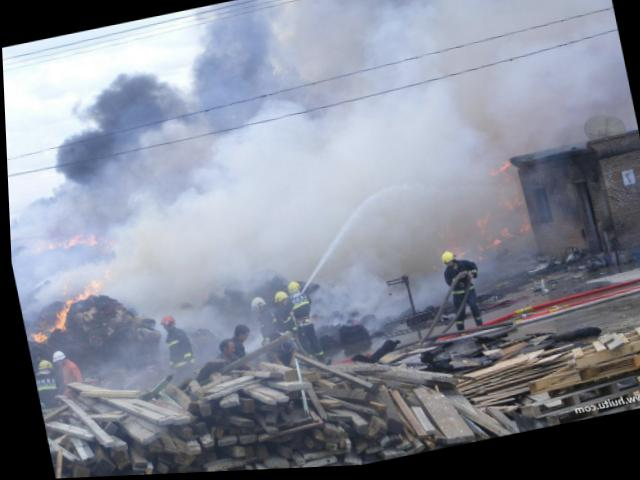fire: (79, 276, 103, 298), (51, 305, 67, 331), (495, 229, 516, 247), (473, 242, 498, 257), (509, 186, 523, 210), (62, 232, 83, 247), (26, 329, 45, 345), (474, 218, 490, 237), (517, 217, 530, 236), (452, 246, 466, 263), (62, 292, 81, 304), (84, 231, 98, 247), (500, 162, 513, 175), (487, 169, 500, 182)
